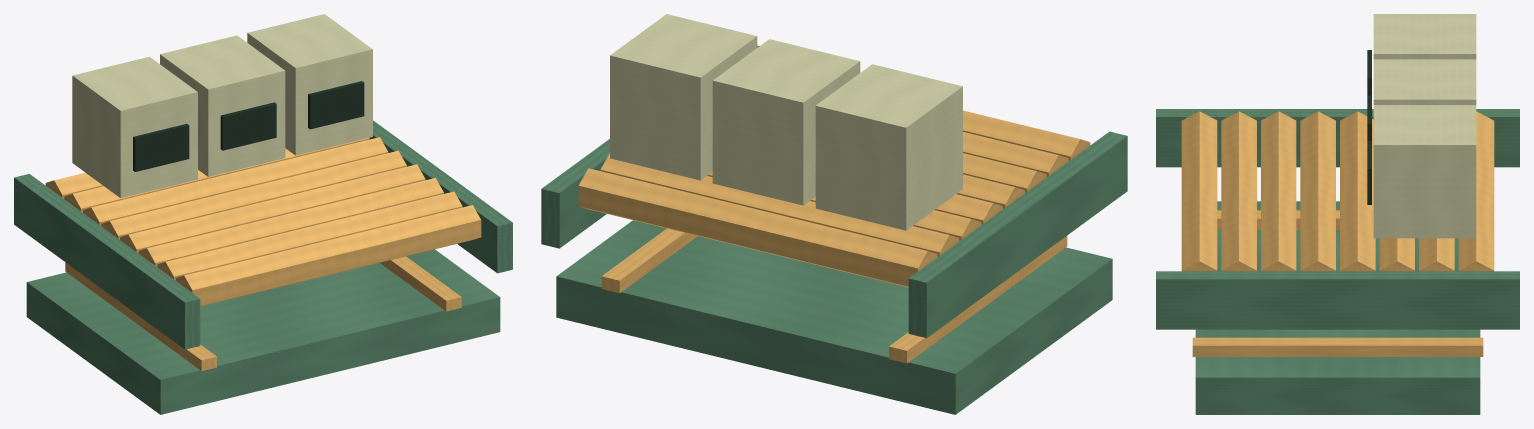
The model's file is atlas100-s004-a01.lod1.glb.
3 renders of one model, left to right at view 1: azimuth 30°, elevation 25°; view 2: azimuth 150°, elevation 25°; view 3: azimuth 270°, elevation 25°, orthographic. The views are drawn at different scales.
Visible parts, largest first — view 1: atlas100-s004-a01:part-000, atlas100-s004-a01:part-013, atlas100-s004-a01:part-011, atlas100-s004-a01:part-010, atlas100-s004-a01:part-015, atlas100-s004-a01:part-017, atlas100-s004-a01:part-006, atlas100-s004-a01:part-007, atlas100-s004-a01:part-008, atlas100-s004-a01:part-005, atlas100-s004-a01:part-009, atlas100-s004-a01:part-012 (+7 smaller); view 2: atlas100-s004-a01:part-000, atlas100-s004-a01:part-013, atlas100-s004-a01:part-015, atlas100-s004-a01:part-017, atlas100-s004-a01:part-011, atlas100-s004-a01:part-003, atlas100-s004-a01:part-004, atlas100-s004-a01:part-012, atlas100-s004-a01:part-010, atlas100-s004-a01:part-001, atlas100-s004-a01:part-002, atlas100-s004-a01:part-009 (+4 smaller); view 3: atlas100-s004-a01:part-012, atlas100-s004-a01:part-000, atlas100-s004-a01:part-017, atlas100-s004-a01:part-002, atlas100-s004-a01:part-010, atlas100-s004-a01:part-007, atlas100-s004-a01:part-009, atlas100-s004-a01:part-008, atlas100-s004-a01:part-011, atlas100-s004-a01:part-006, atlas100-s004-a01:part-015, atlas100-s004-a01:part-013 (+4 smaller).
Boxes of the visible parts, x1=… form: atlas100-s004-a01:part-000: x1=26, y1=249, x2=500, y2=414; atlas100-s004-a01:part-013: x1=72, y1=56, x2=197, y2=198; atlas100-s004-a01:part-011: x1=14, y1=174, x2=200, y2=349; atlas100-s004-a01:part-010: x1=175, y1=205, x2=481, y2=306; atlas100-s004-a01:part-015: x1=160, y1=35, x2=285, y2=176; atlas100-s004-a01:part-017: x1=247, y1=14, x2=372, y2=155; atlas100-s004-a01:part-006: x1=101, y1=150, x2=406, y2=239; atlas100-s004-a01:part-007: x1=120, y1=164, x2=425, y2=253; atlas100-s004-a01:part-008: x1=138, y1=178, x2=443, y2=266; atlas100-s004-a01:part-005: x1=83, y1=137, x2=388, y2=225; atlas100-s004-a01:part-009: x1=157, y1=191, x2=462, y2=280; atlas100-s004-a01:part-012: x1=369, y1=120, x2=512, y2=273; atlas100-s004-a01:part-000: x1=556, y1=220, x2=1112, y2=414; atlas100-s004-a01:part-013: x1=815, y1=64, x2=962, y2=230; atlas100-s004-a01:part-015: x1=712, y1=39, x2=860, y2=205; atlas100-s004-a01:part-017: x1=610, y1=14, x2=757, y2=180; atlas100-s004-a01:part-011: x1=908, y1=131, x2=1127, y2=338; atlas100-s004-a01:part-003: x1=578, y1=168, x2=937, y2=287; atlas100-s004-a01:part-004: x1=600, y1=153, x2=959, y2=256; atlas100-s004-a01:part-012: x1=541, y1=45, x2=759, y2=248; atlas100-s004-a01:part-010: x1=963, y1=110, x2=1090, y2=160; atlas100-s004-a01:part-001: x1=889, y1=236, x2=1067, y2=363; atlas100-s004-a01:part-002: x1=601, y1=228, x2=697, y2=293; atlas100-s004-a01:part-009: x1=963, y1=132, x2=1068, y2=176; atlas100-s004-a01:part-012: x1=1156, y1=271, x2=1519, y2=329; atlas100-s004-a01:part-000: x1=1195, y1=201, x2=1480, y2=414; atlas100-s004-a01:part-017: x1=1373, y1=105, x2=1476, y2=238; atlas100-s004-a01:part-002: x1=1192, y1=337, x2=1483, y2=356; atlas100-s004-a01:part-010: x1=1181, y1=111, x2=1217, y2=271; atlas100-s004-a01:part-007: x1=1300, y1=111, x2=1335, y2=271; atlas100-s004-a01:part-009: x1=1221, y1=111, x2=1256, y2=271; atlas100-s004-a01:part-008: x1=1261, y1=111, x2=1296, y2=271; atlas100-s004-a01:part-011: x1=1156, y1=109, x2=1519, y2=167; atlas100-s004-a01:part-006: x1=1340, y1=111, x2=1375, y2=271; atlas100-s004-a01:part-015: x1=1373, y1=59, x2=1476, y2=104; atlas100-s004-a01:part-013: x1=1373, y1=14, x2=1476, y2=59.
Size of the model in its own units: 2.64 by 1.73 by 2.3.
Materials: 4 (4 with a texture image).
